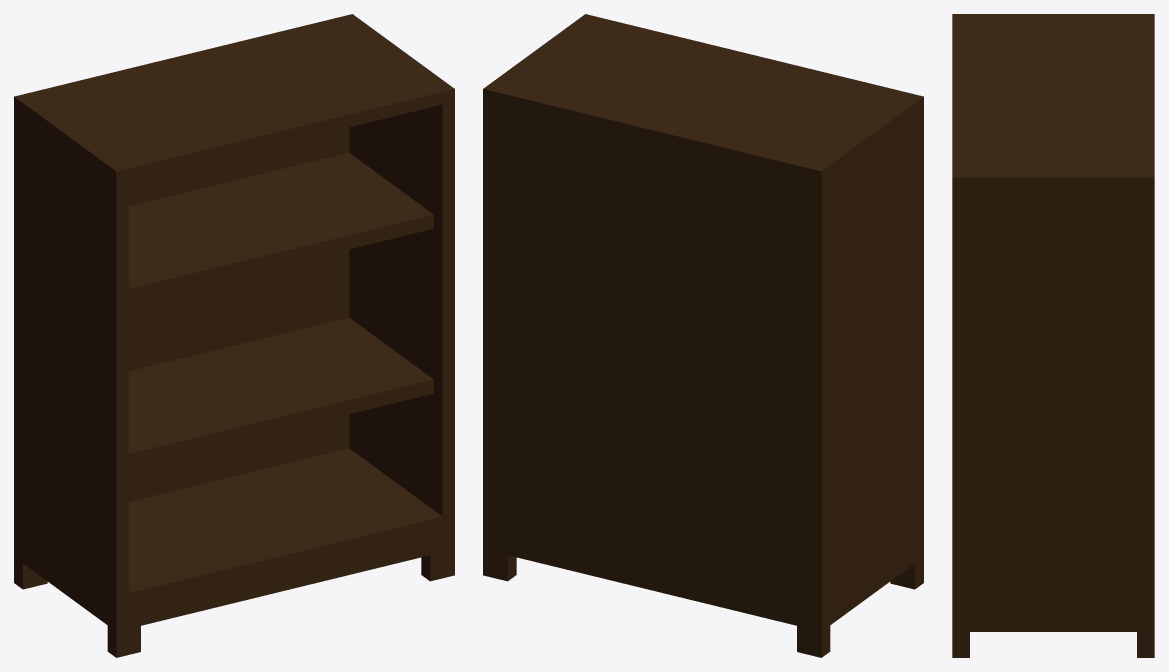
The model's file is bookcase_v1.fbx.
3 renders of one model, left to right at view 1: azimuth 30°, elevation 25°; view 2: azimuth 150°, elevation 25°; view 3: azimuth 270°, elevation 25°, orthographic.
Parts seen in each view (by area): view 1: Cube; view 2: Cube; view 3: Cube.
Part boxes in pixels (x1=…): Cube: x1=14, y1=14, x2=454, y2=657; Cube: x1=483, y1=14, x2=923, y2=657; Cube: x1=952, y1=14, x2=1154, y2=657.
Bounding box in the file's own units: 382 × 525 × 200.
